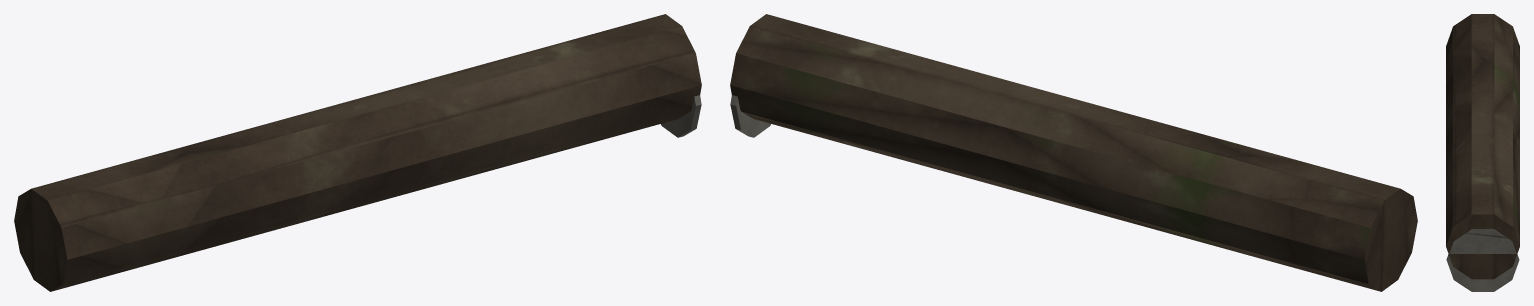
Rendered from Log_0.fbx.
3 renders of one model, left to right at view 1: azimuth 30°, elevation 25°; view 2: azimuth 150°, elevation 25°; view 3: azimuth 270°, elevation 25°, orthographic. The views are drawn at different scales.
Parts seen in each view (by area): view 1: Log_0; view 2: Log_0; view 3: Log_0.
Boxes of the visible parts, x1=… form: Log_0: x1=14, y1=14, x2=701, y2=291; Log_0: x1=730, y1=14, x2=1417, y2=291; Log_0: x1=1446, y1=14, x2=1519, y2=291.
Size of the model in its own units: 2.21 by 0.3702 by 0.32.
